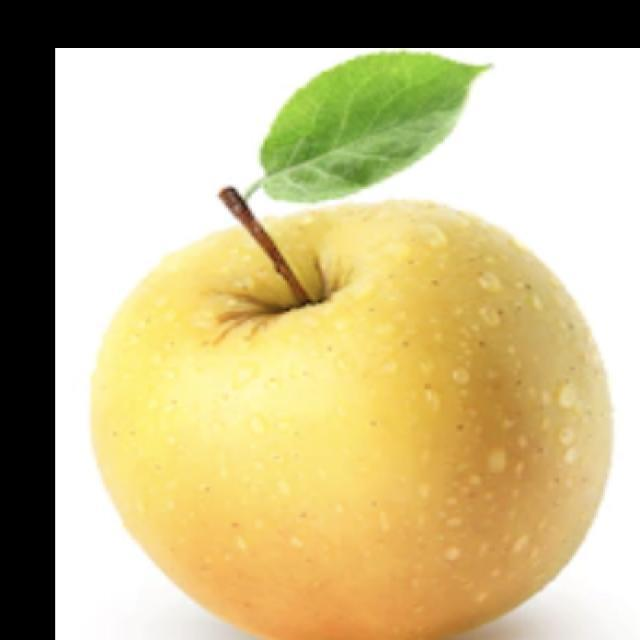Fresh Apple: (115, 210, 602, 637)
